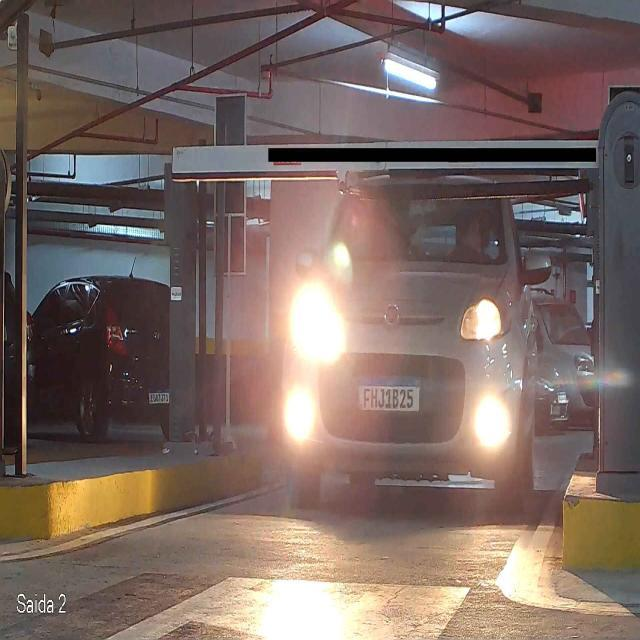mercosul_plate: (356, 376, 423, 413)
